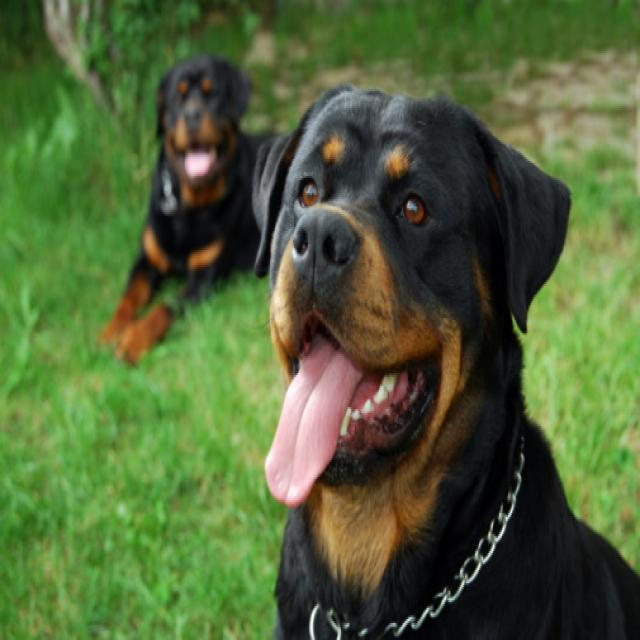rottweiler: (237, 46, 573, 529)
